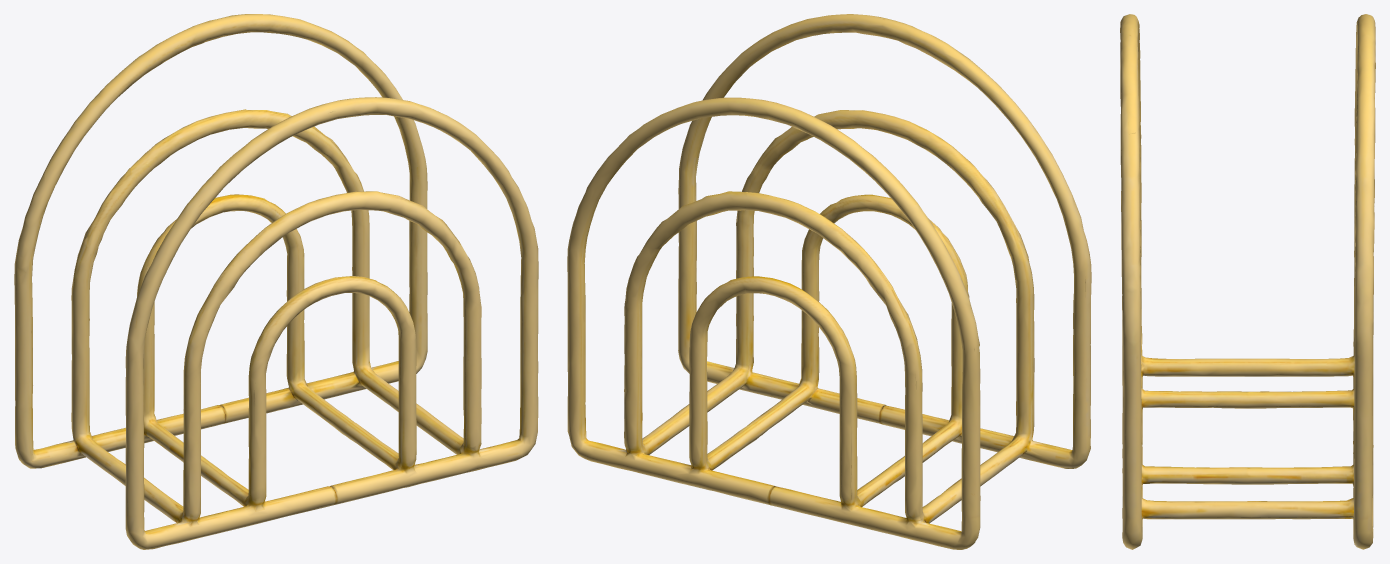
Rendered from rack-golden-arch.normalized.glb.
The picture shows the model from 3 angles, left to right: view 1: azimuth 30°, elevation 25°; view 2: azimuth 150°, elevation 25°; view 3: azimuth 270°, elevation 25°; orthographic projection. The views are drawn at different scales.
Parts seen in each view (by area): view 1: meshy_cc0_rack_golden_arch_mesh_00; view 2: meshy_cc0_rack_golden_arch_mesh_00; view 3: meshy_cc0_rack_golden_arch_mesh_00.
Boxes of the visible parts, box(x1,y1,x2,y2) form: meshy_cc0_rack_golden_arch_mesh_00: box(14, 14, 538, 549); meshy_cc0_rack_golden_arch_mesh_00: box(567, 14, 1091, 549); meshy_cc0_rack_golden_arch_mesh_00: box(1120, 14, 1375, 549).
Size of the model in its own units: 1.92 by 1.8 by 0.9923.
1 material, 1 textured.
